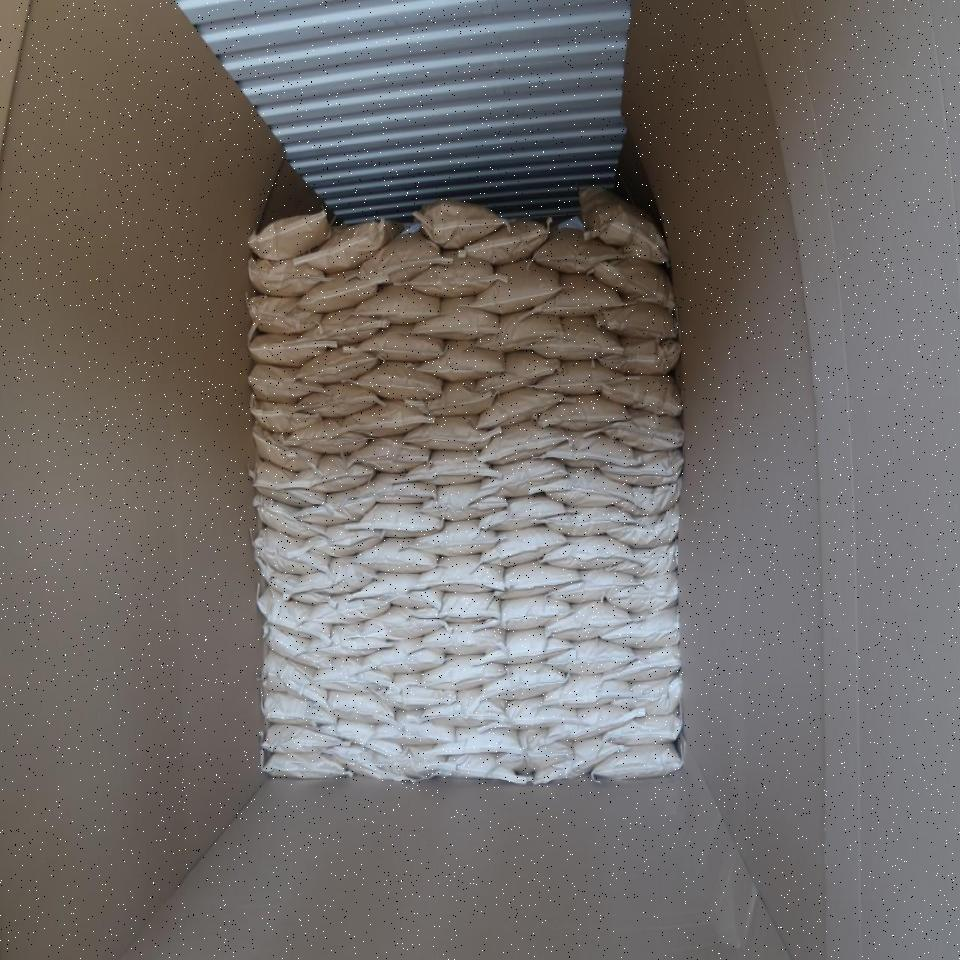bag: (578, 186, 669, 264), (294, 221, 403, 274), (467, 257, 562, 314), (350, 230, 453, 282), (260, 651, 335, 719), (475, 419, 585, 464), (404, 251, 508, 298), (411, 201, 512, 248), (538, 705, 646, 748), (405, 294, 501, 342), (533, 738, 630, 785), (258, 587, 332, 648), (533, 228, 628, 275), (529, 467, 636, 508), (247, 211, 334, 261), (593, 257, 674, 310), (472, 307, 565, 352), (476, 387, 575, 429), (255, 552, 333, 605), (458, 220, 548, 265), (533, 273, 624, 317), (409, 554, 506, 595), (533, 317, 623, 361), (469, 628, 573, 666), (545, 601, 646, 640), (336, 399, 434, 439), (472, 595, 577, 632), (340, 324, 444, 361), (473, 351, 562, 394), (417, 340, 506, 383), (297, 270, 388, 312), (491, 730, 574, 776), (419, 687, 511, 728), (478, 494, 577, 532), (539, 534, 643, 570), (478, 696, 576, 734), (254, 527, 330, 576), (350, 361, 443, 401), (410, 518, 505, 557), (538, 395, 631, 434), (396, 451, 502, 485), (401, 414, 501, 450), (292, 309, 389, 346), (479, 456, 566, 497), (480, 526, 567, 567), (533, 360, 632, 396), (603, 409, 684, 453), (416, 483, 509, 521), (478, 662, 568, 701), (286, 454, 375, 493), (350, 286, 441, 324), (599, 607, 681, 649), (601, 375, 682, 417), (348, 573, 442, 609), (344, 504, 443, 538), (252, 421, 318, 472), (253, 461, 326, 507), (291, 557, 377, 596), (370, 709, 458, 747), (592, 743, 682, 780), (540, 435, 640, 468), (347, 433, 429, 473), (419, 655, 507, 692), (543, 639, 636, 674), (542, 675, 635, 710), (531, 507, 643, 536), (255, 495, 327, 540), (598, 645, 681, 684), (295, 346, 380, 384), (404, 382, 496, 417), (597, 450, 684, 487), (493, 562, 580, 599), (349, 538, 438, 574), (362, 637, 444, 676), (350, 606, 444, 640), (598, 338, 681, 376), (607, 505, 680, 548), (316, 720, 403, 756), (427, 754, 528, 785), (261, 624, 331, 668), (249, 364, 326, 404), (374, 673, 457, 710), (306, 621, 391, 657), (596, 302, 676, 340), (417, 623, 509, 656), (550, 570, 641, 603), (423, 726, 523, 756), (249, 394, 322, 435), (607, 573, 679, 614), (247, 295, 324, 333), (311, 659, 394, 694), (368, 745, 456, 778), (295, 383, 380, 417), (249, 260, 325, 298), (611, 676, 683, 716), (605, 540, 679, 578), (325, 693, 401, 730), (294, 490, 376, 524), (249, 334, 336, 366), (298, 595, 390, 625), (283, 421, 366, 454), (301, 525, 383, 558), (611, 479, 682, 516), (355, 473, 437, 505), (601, 713, 682, 745), (415, 593, 501, 623), (262, 693, 336, 727), (320, 748, 401, 779), (261, 726, 348, 753), (262, 753, 352, 778)
